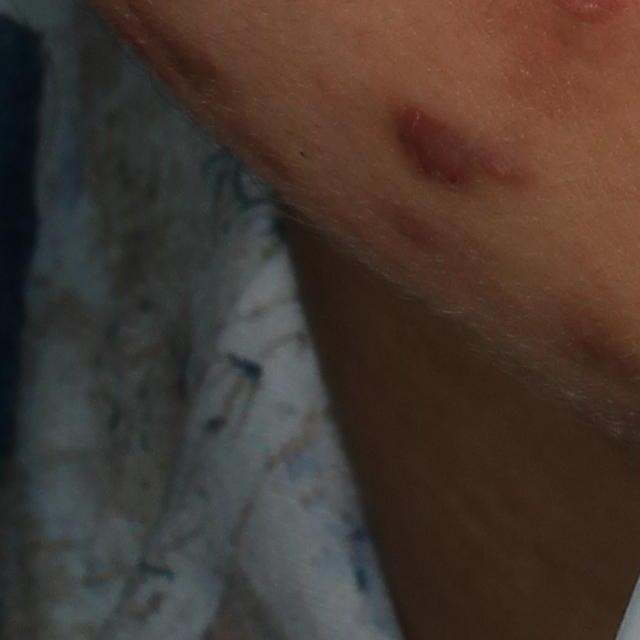papule: (401, 108, 478, 194)
